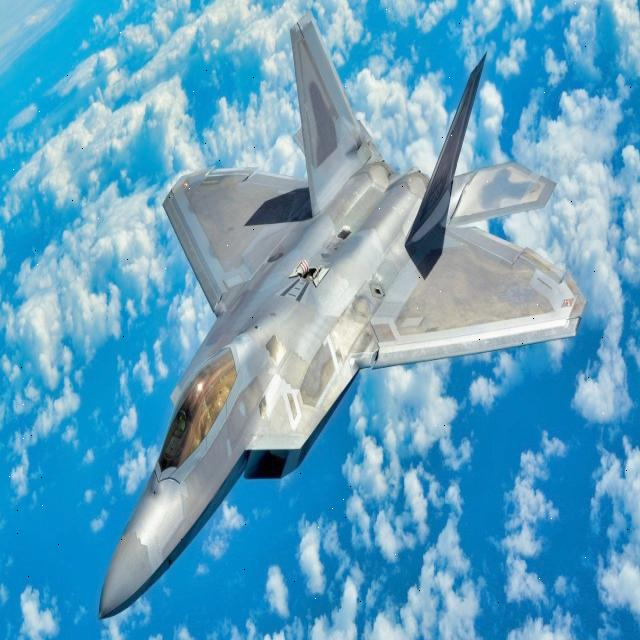F22: (41, 18, 611, 640)
